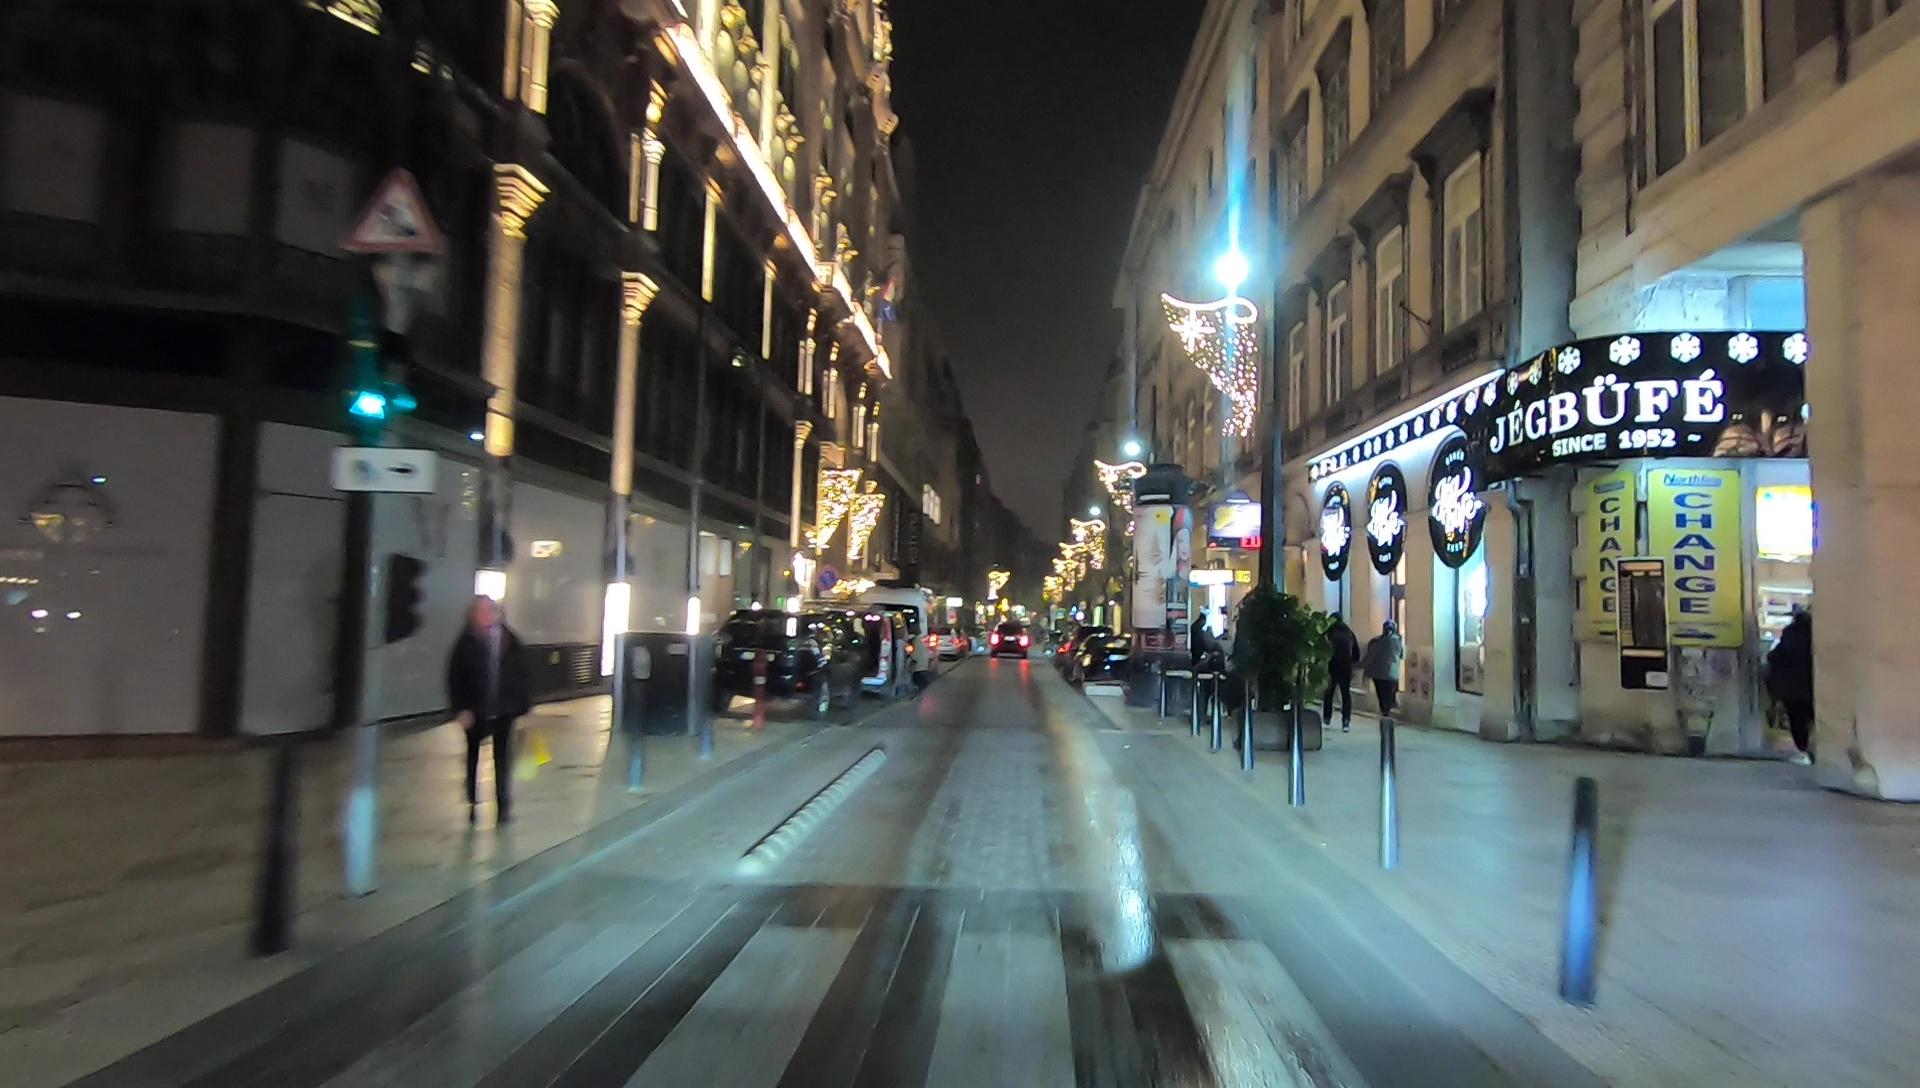person: (447, 597, 530, 820), (1774, 604, 1817, 764), (1322, 614, 1355, 729), (1368, 622, 1403, 717)
